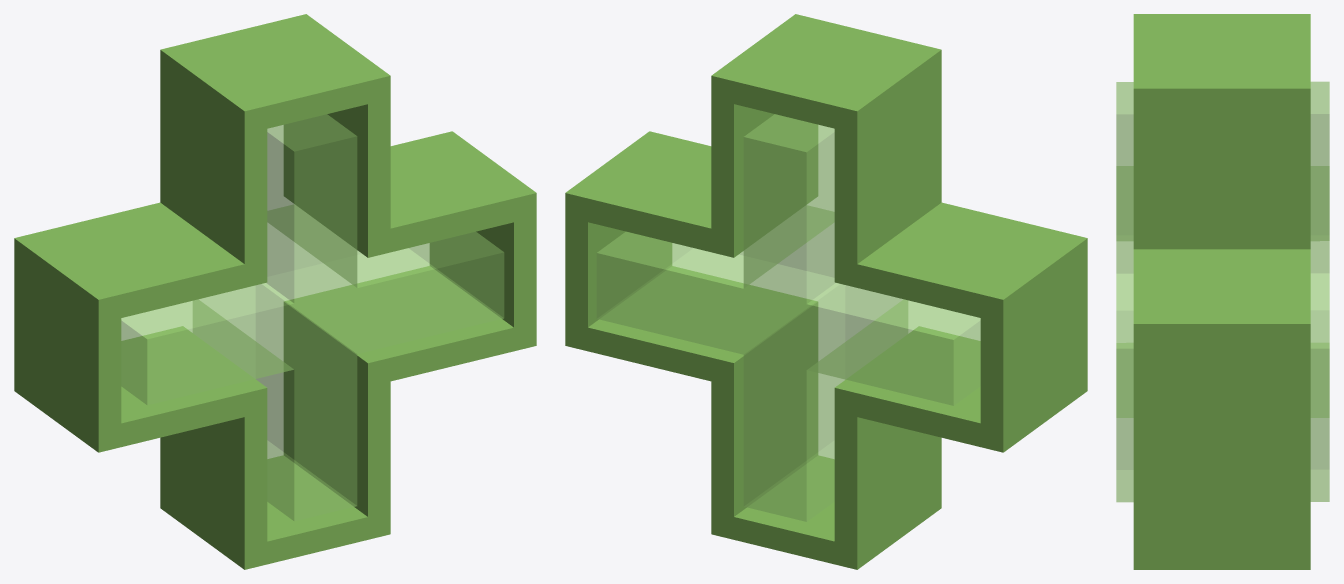
Rendered from HealthPickup.fbx.
The picture shows the model from 3 angles, left to right: view 1: azimuth 30°, elevation 25°; view 2: azimuth 150°, elevation 25°; view 3: azimuth 270°, elevation 25°; orthographic projection. The views are drawn at different scales.
Parts seen in each view (by area): view 1: health_pickup:polySurface6; view 2: health_pickup:polySurface6; view 3: health_pickup:polySurface6.
Part boxes in pixels (x1,y1,x2,y2): health_pickup:polySurface6: [14, 14, 536, 569]; health_pickup:polySurface6: [565, 14, 1087, 569]; health_pickup:polySurface6: [1116, 14, 1329, 569].
Bounding box in the file's own units: 1.82 × 1.82 × 0.7312.
